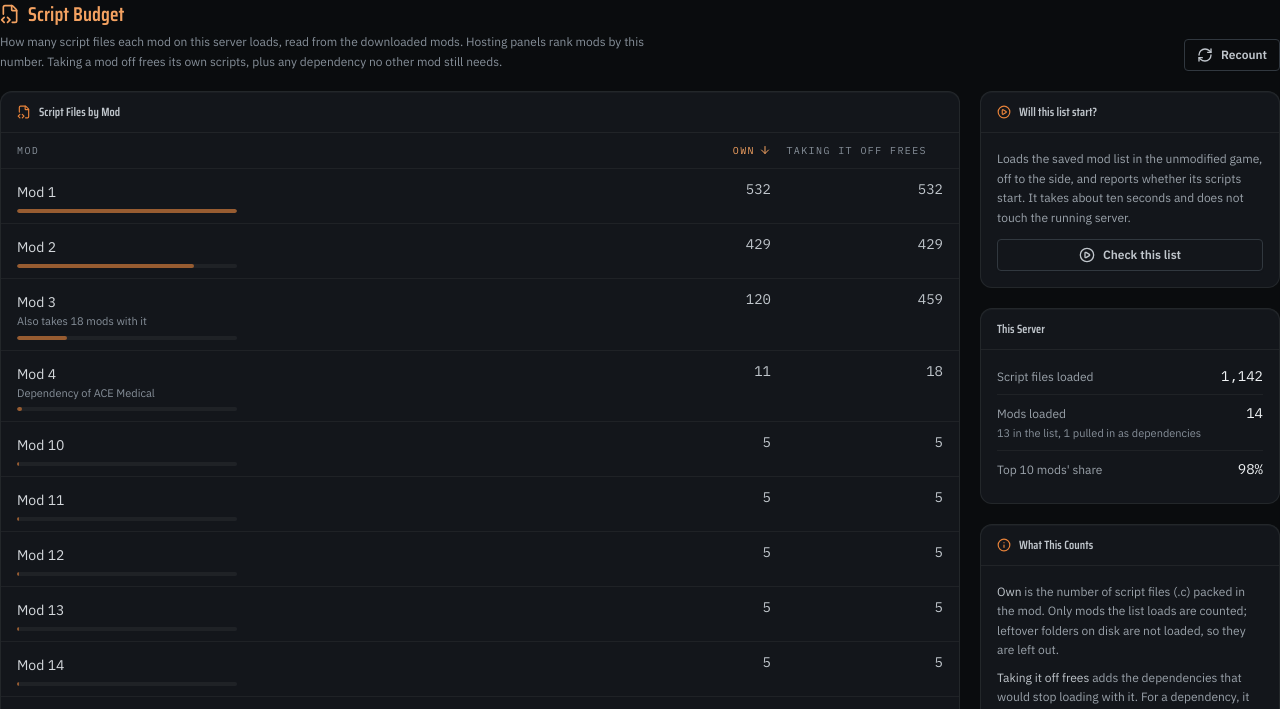
Test: ScriptBudgetModule › checks the list before launch and says players would crash
Expected: the heading "Script Files by Mod" is shown, [17,104,120,120]
Step 1. Click the button "Check this list" → (1130, 255), box [997,239,1263,271]
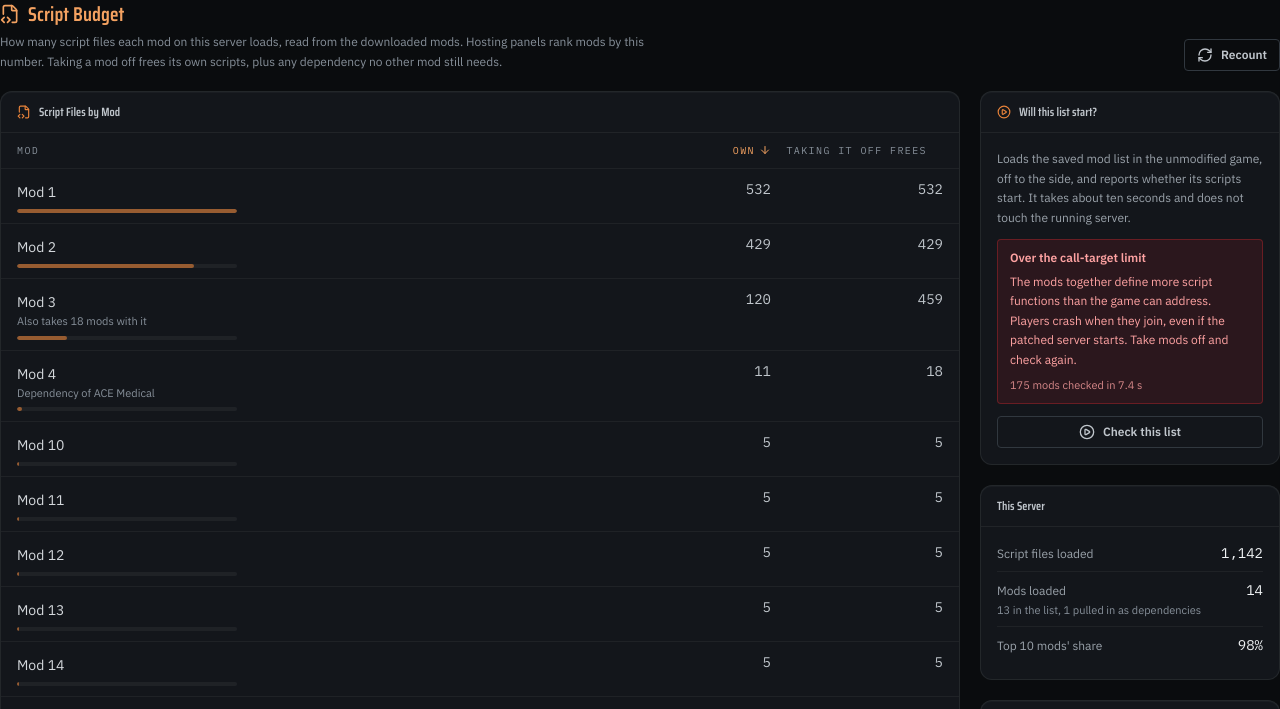
Expected: the text "Over the call-target limit" is shown, [1010,250,1146,265]
Expected: the text "Players crash when they join" is shown, [1010,274,1228,366]
Expected: the text "175 mods checked in 7.4 s" is shown, [1010,378,1142,392]
